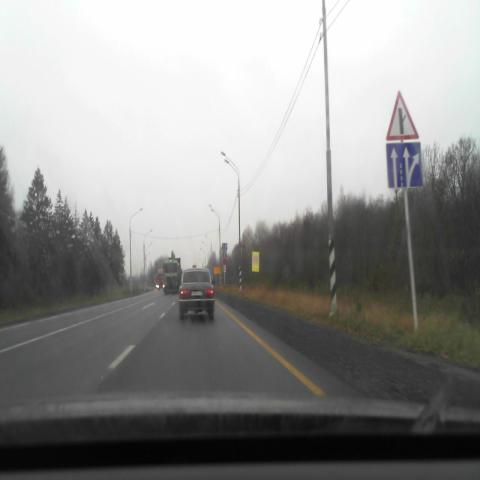2_3_4: (386, 90, 420, 141)
